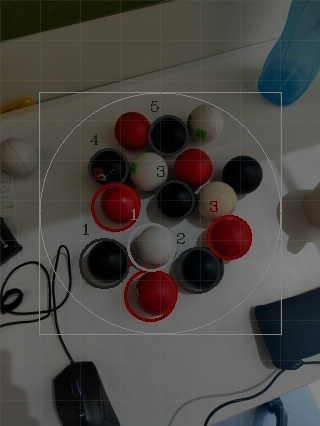Pelota blanca: (273, 182, 320, 256), (0, 260, 54, 320), (167, 396, 278, 425), (127, 222, 179, 270), (127, 150, 169, 192), (196, 180, 238, 222), (185, 100, 225, 142), (0, 137, 38, 179), (303, 182, 320, 232)
Pelota negra: (50, 361, 121, 425), (76, 236, 129, 291), (169, 246, 225, 296), (145, 180, 195, 227), (220, 153, 265, 198), (148, 113, 190, 155), (87, 148, 129, 184)
Pelota roja: (121, 268, 179, 323), (90, 180, 142, 232), (204, 212, 254, 262), (172, 148, 214, 187), (113, 110, 150, 152)
